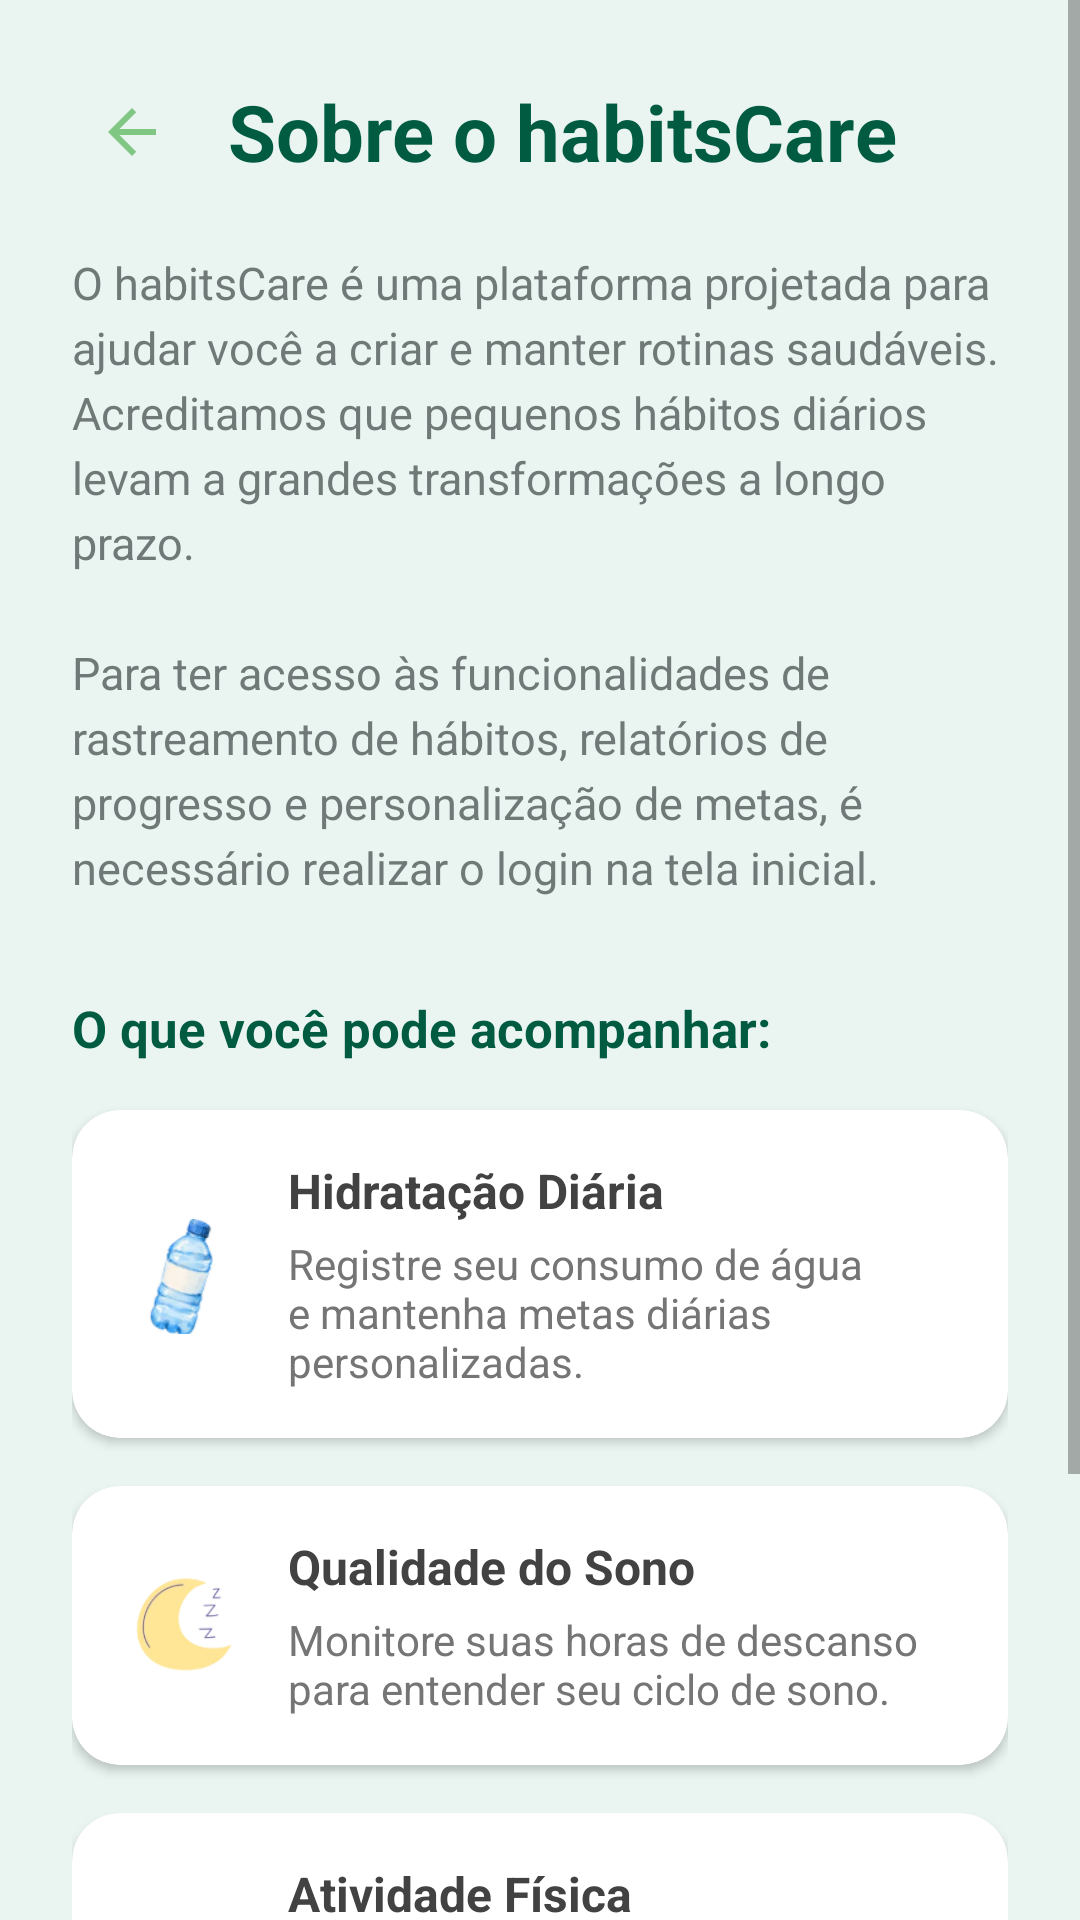

Where to tap for icons on this 1080w x 1920h app screen, as [x,y]:
sleep: [184,1624]
Voltar: [132,132]
water: [181,1276]
